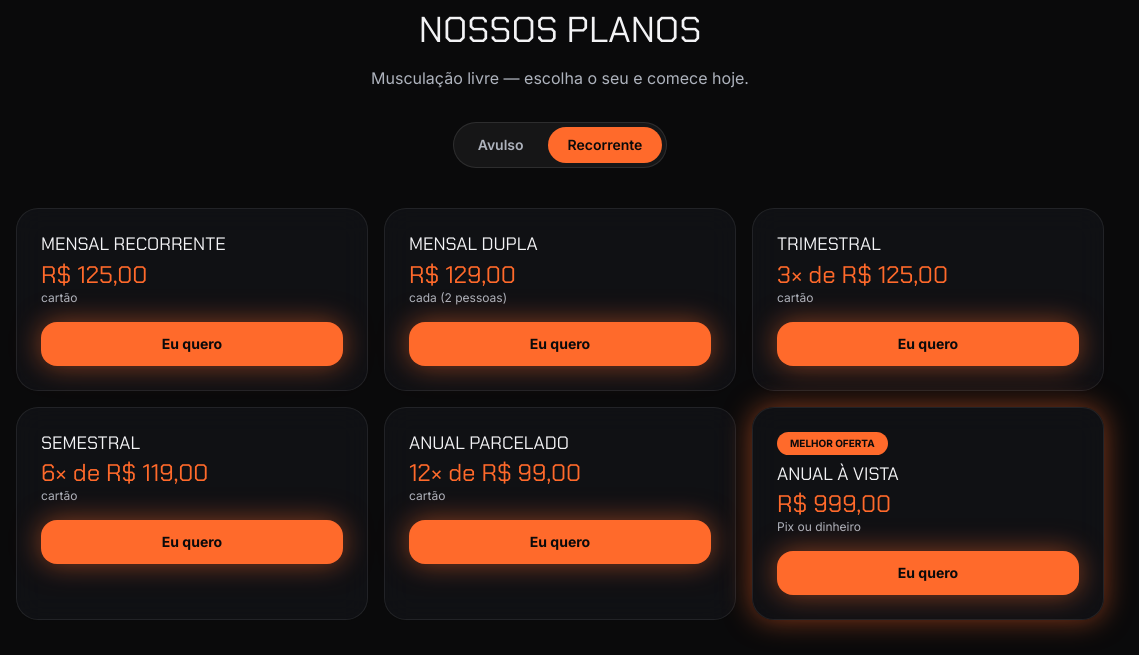
Scenario: Planos › shows Diária once toggled to Avulso
Click the button "Avulso".
click(501, 145)  # box [458,127,544,163]
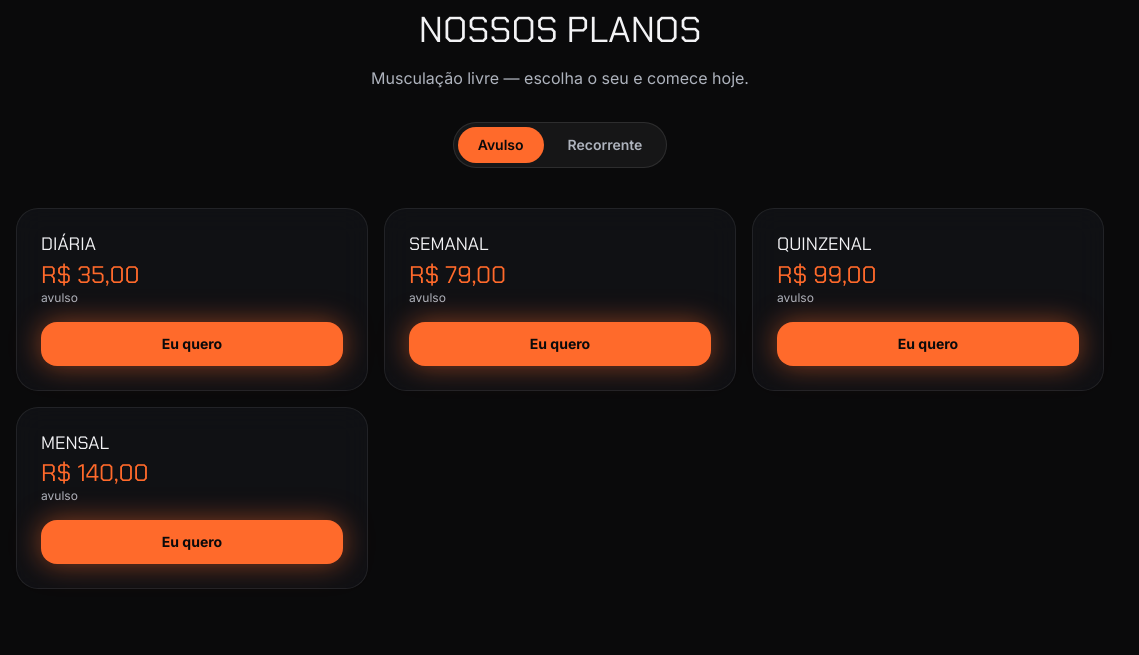
Expected: the heading "Diária" is shown, [41,232,96,256]
